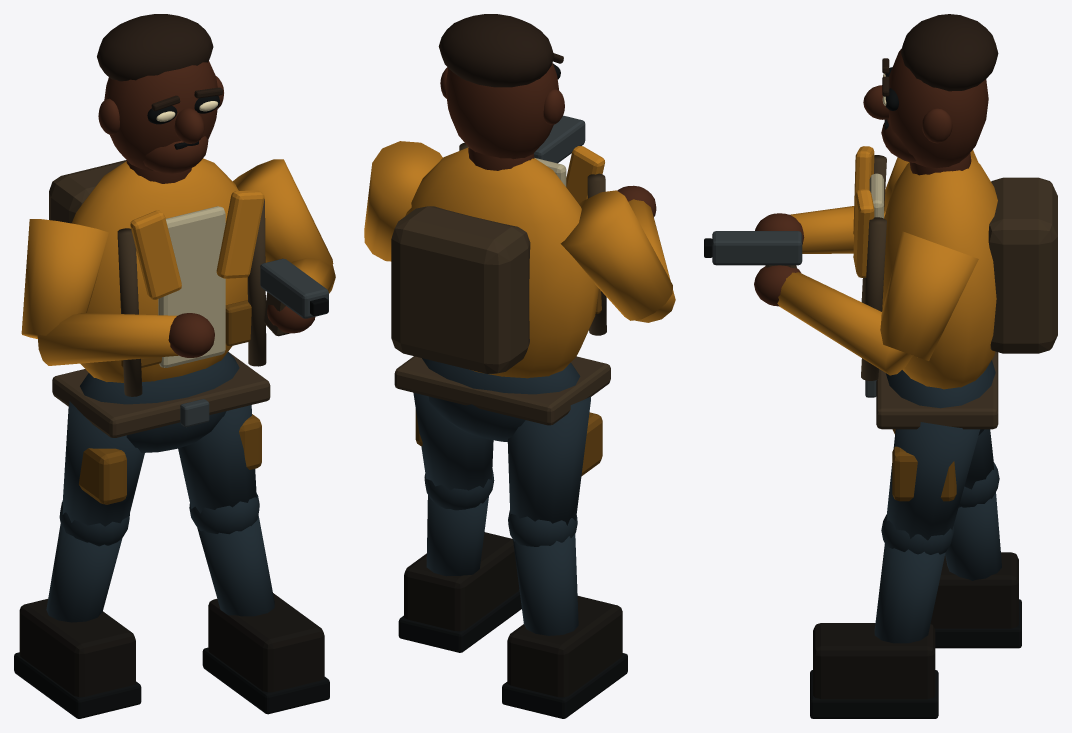
File: survivor_02.glb
3 views of the same model, side by side, from view 1: azimuth 30°, elevation 25°; view 2: azimuth 150°, elevation 25°; view 3: azimuth 270°, elevation 25° (orthographic).
Visible parts, largest first — view 1: survivor_02; view 2: survivor_02; view 3: survivor_02.
Boxes of the visible parts, x1,y1,x2,y2 form: survivor_02: [14, 14, 335, 718]; survivor_02: [364, 14, 675, 718]; survivor_02: [704, 14, 1057, 718].
Bounding box in the file's own units: 0.5398 × 1.11 × 0.55.
